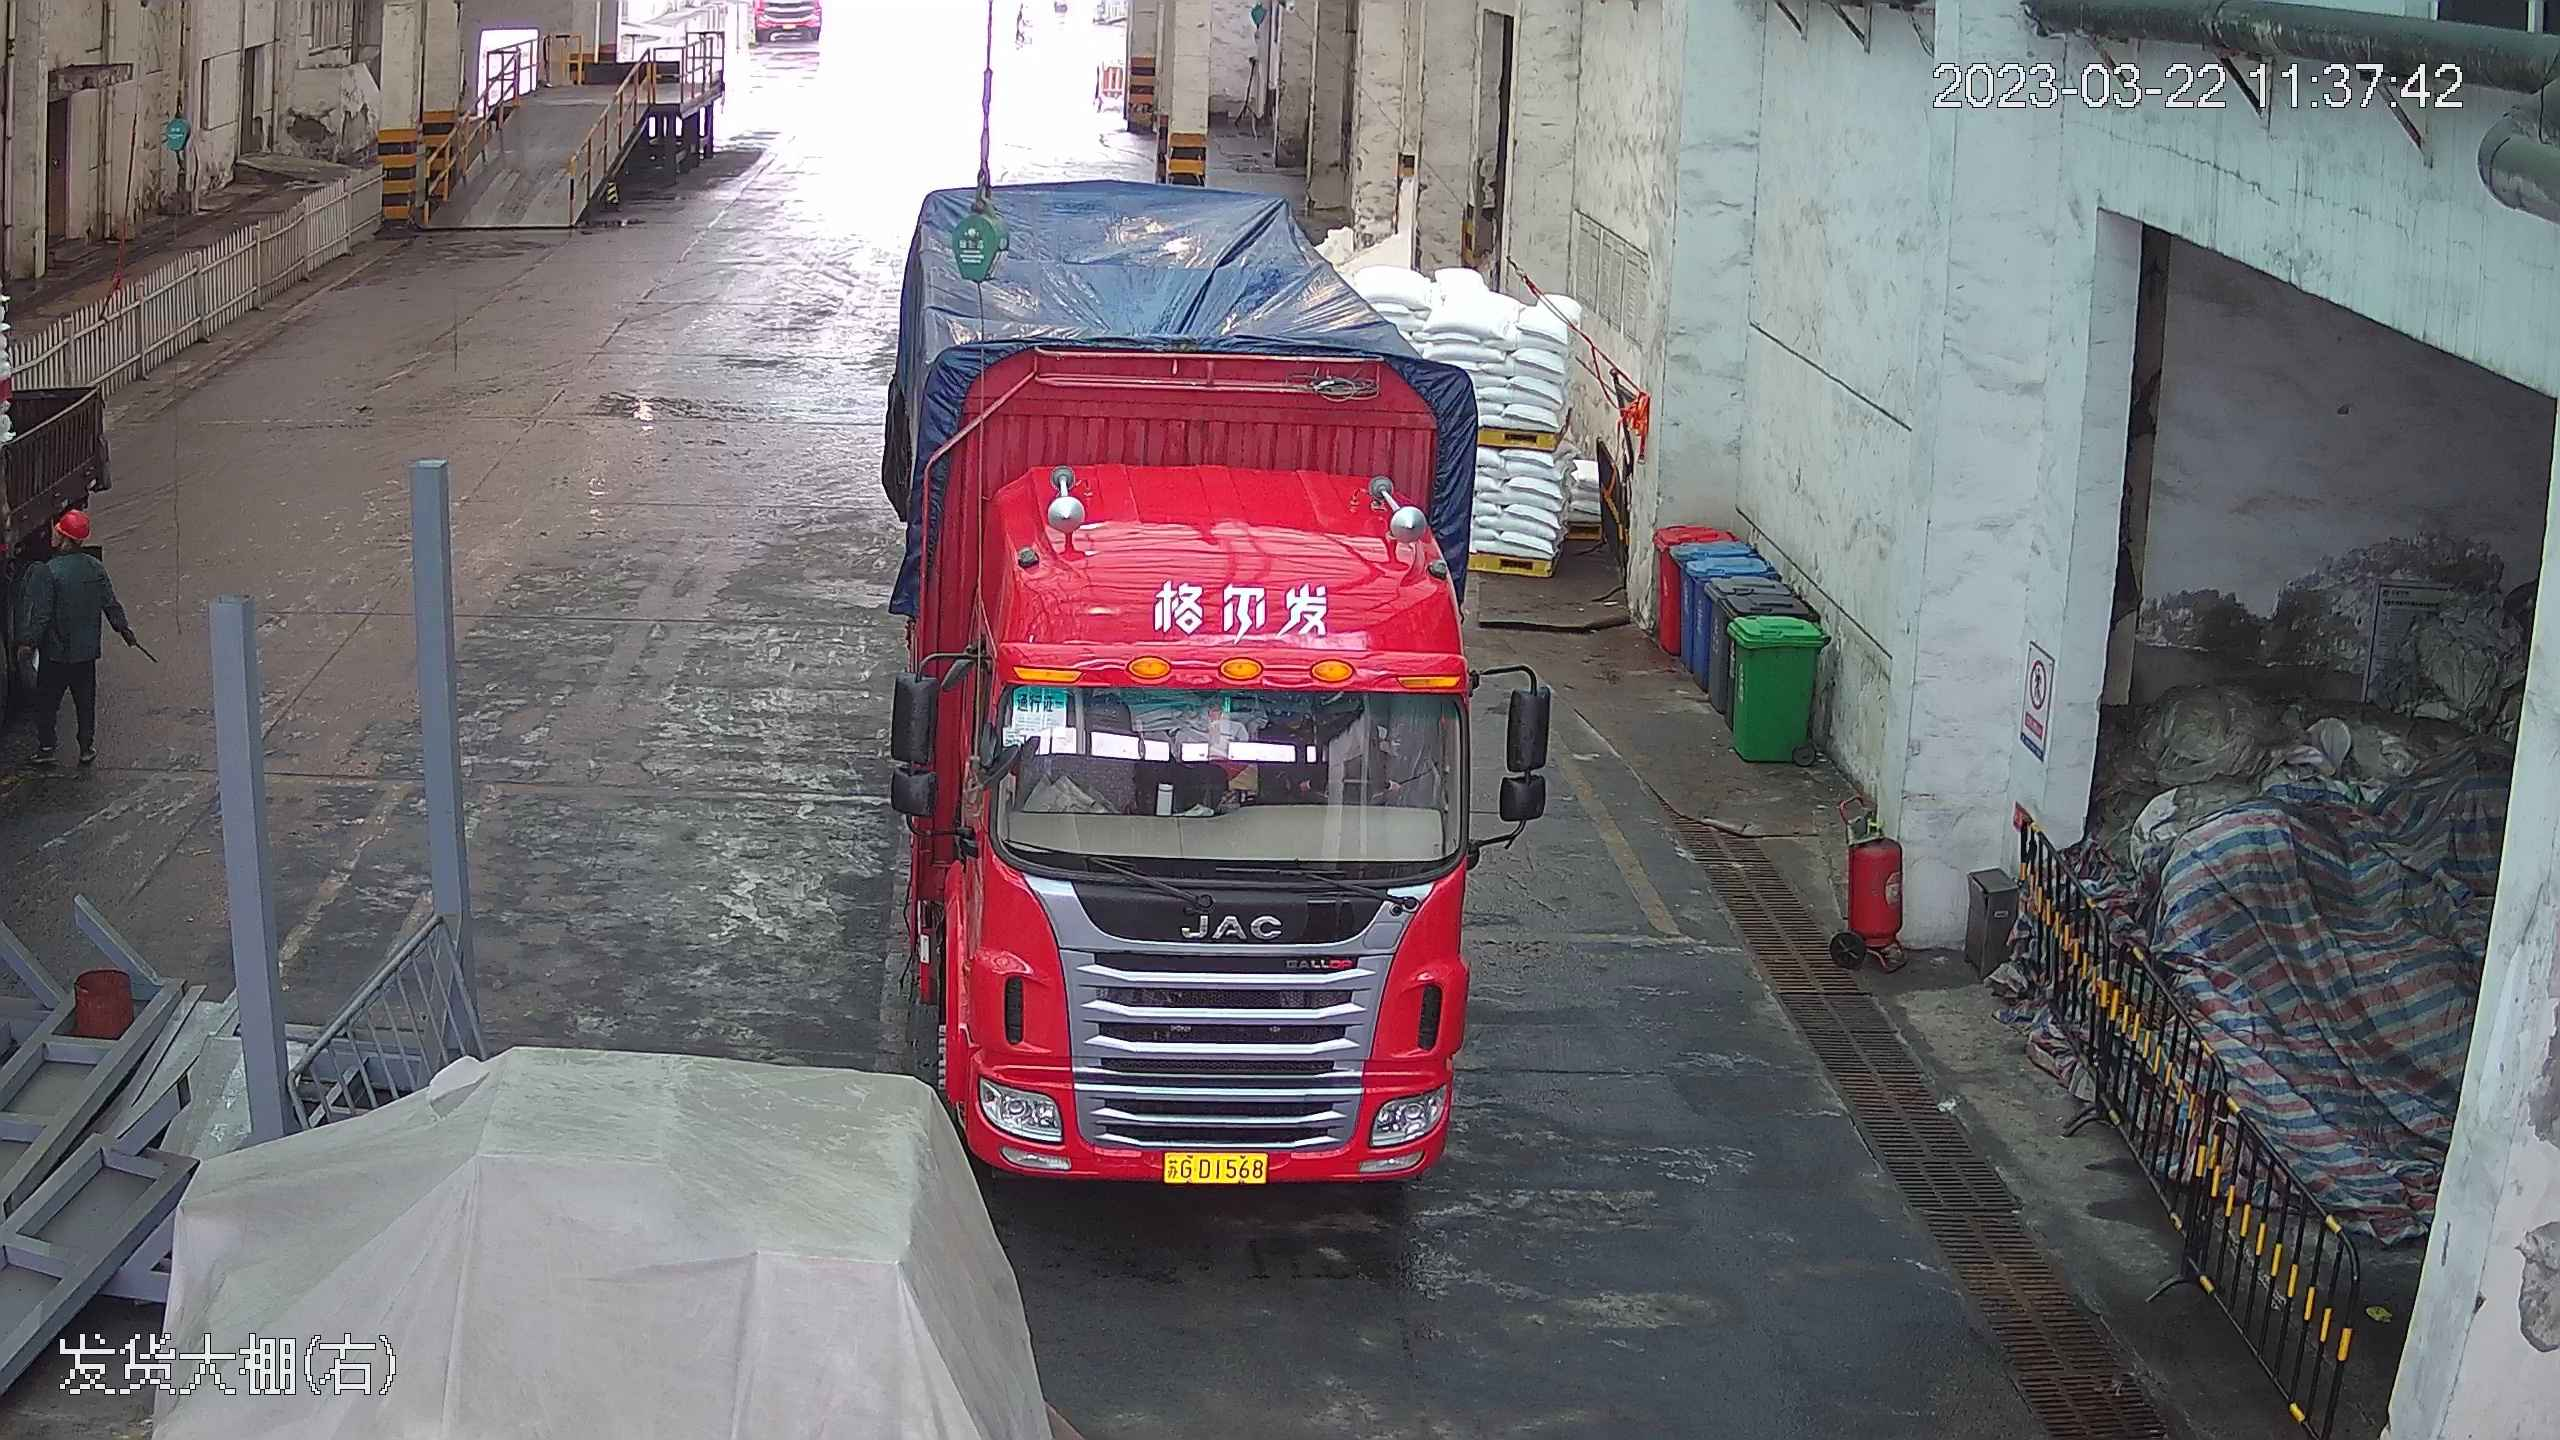head: (40, 503, 115, 594)
helmet: (54, 503, 95, 541)
people: (20, 503, 135, 771)
truck: (859, 129, 1529, 1211)
